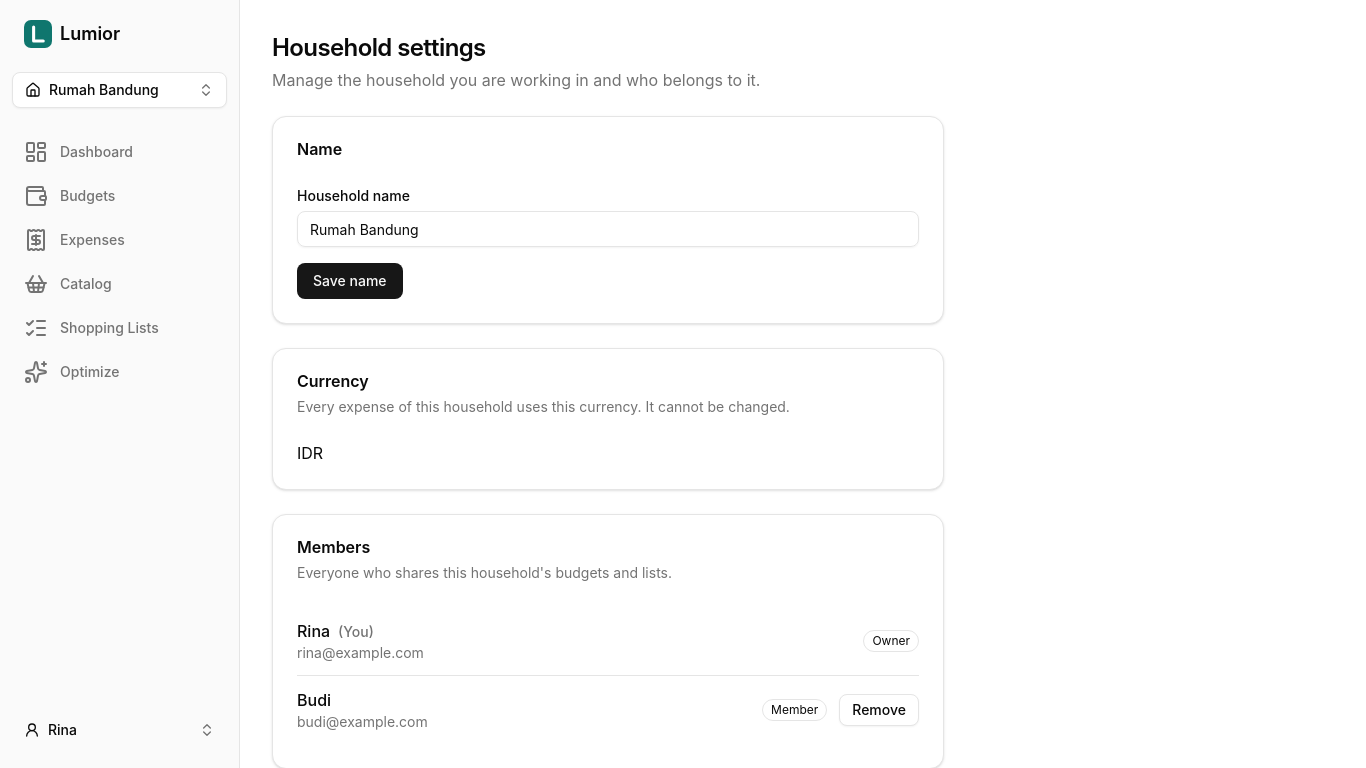
Test case: household settings › the owner renames the household
Replace the text in the field labelled "Household name" with "Rumah Kita" at (608, 229), box [297,211,919,247]
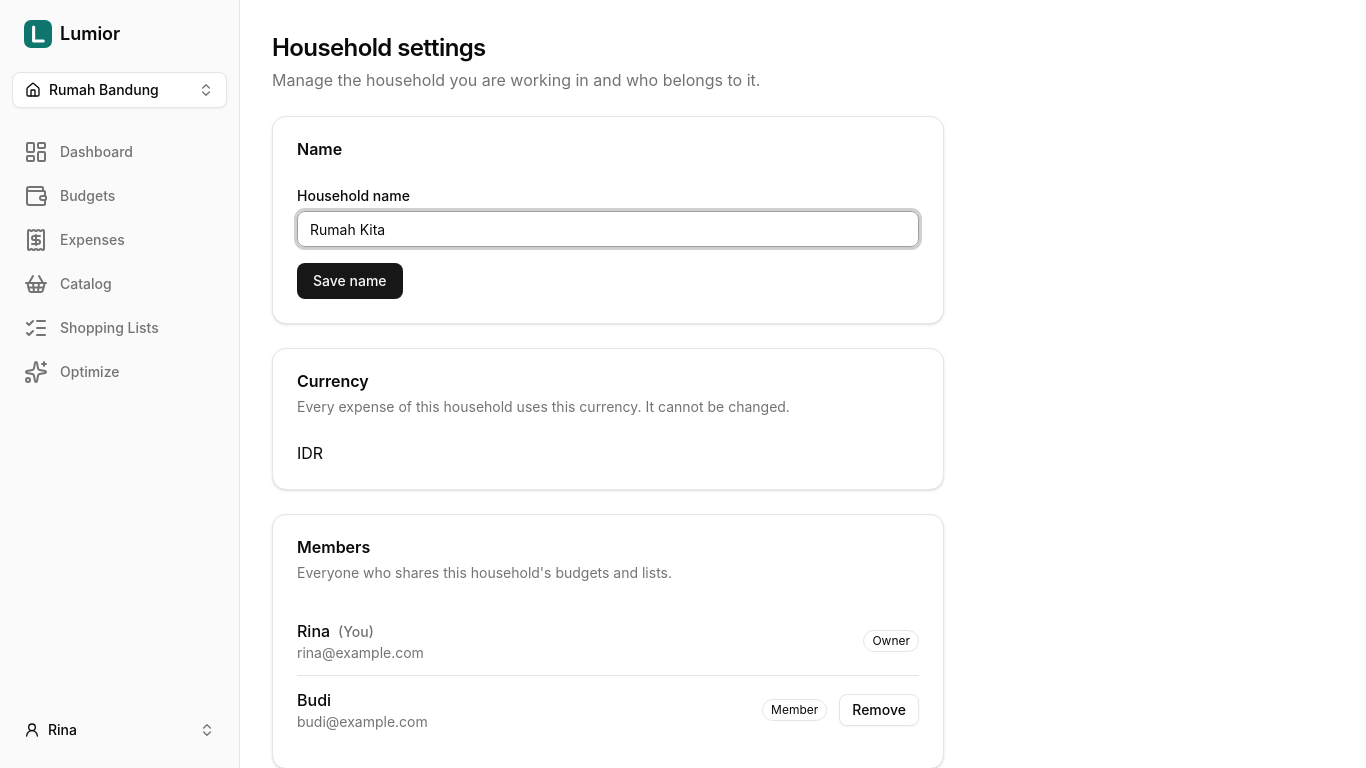
Click the button "Save name" at (350, 281), box [297,263,402,299]
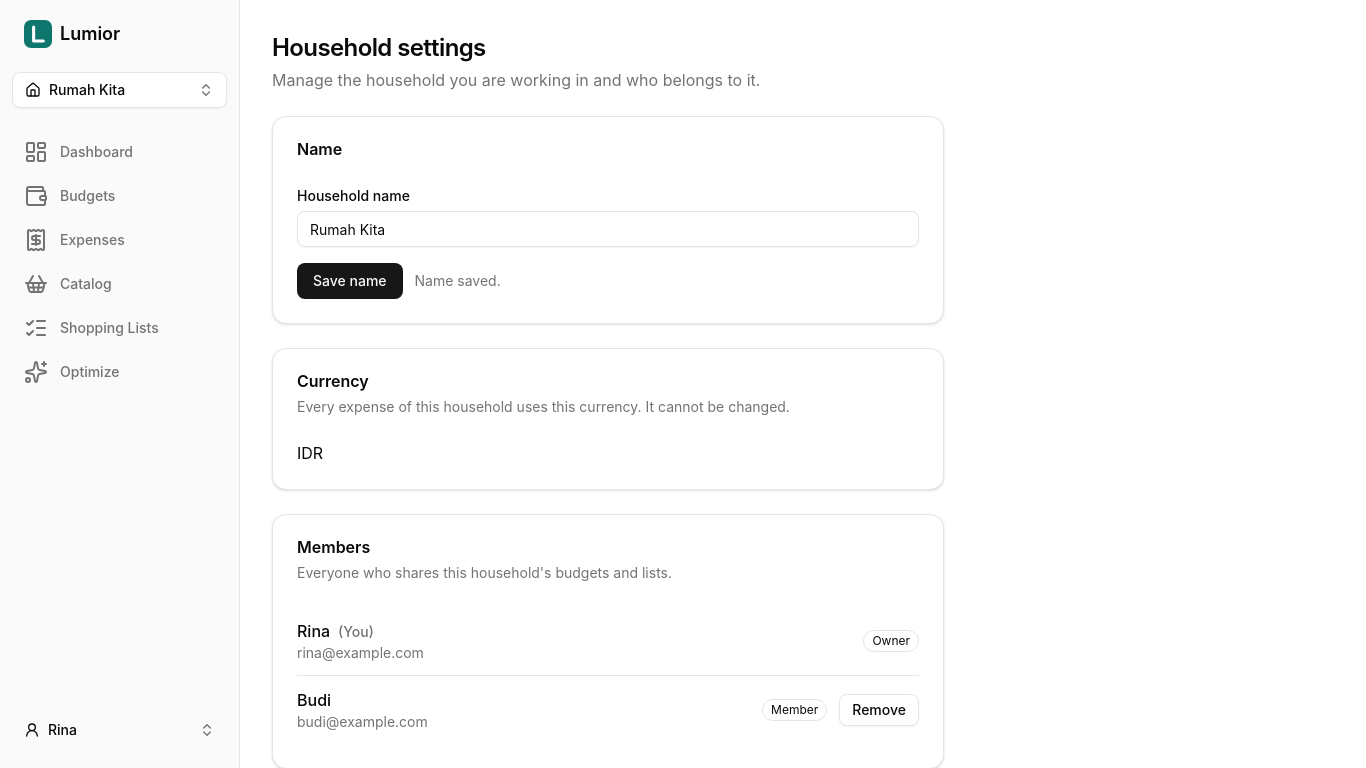
Expected: the text "Name saved." is shown, [414,271,501,291]
Expected: the text "Rumah Kita" is shown, [49,80,125,100]
